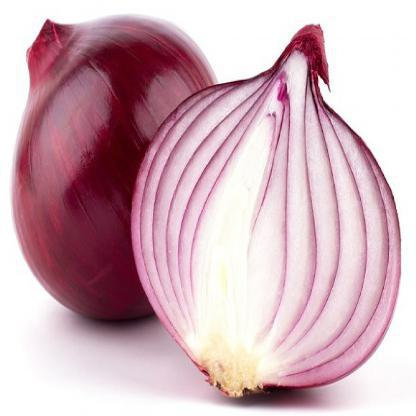onion: (151, 41, 398, 402), (15, 16, 218, 340)
